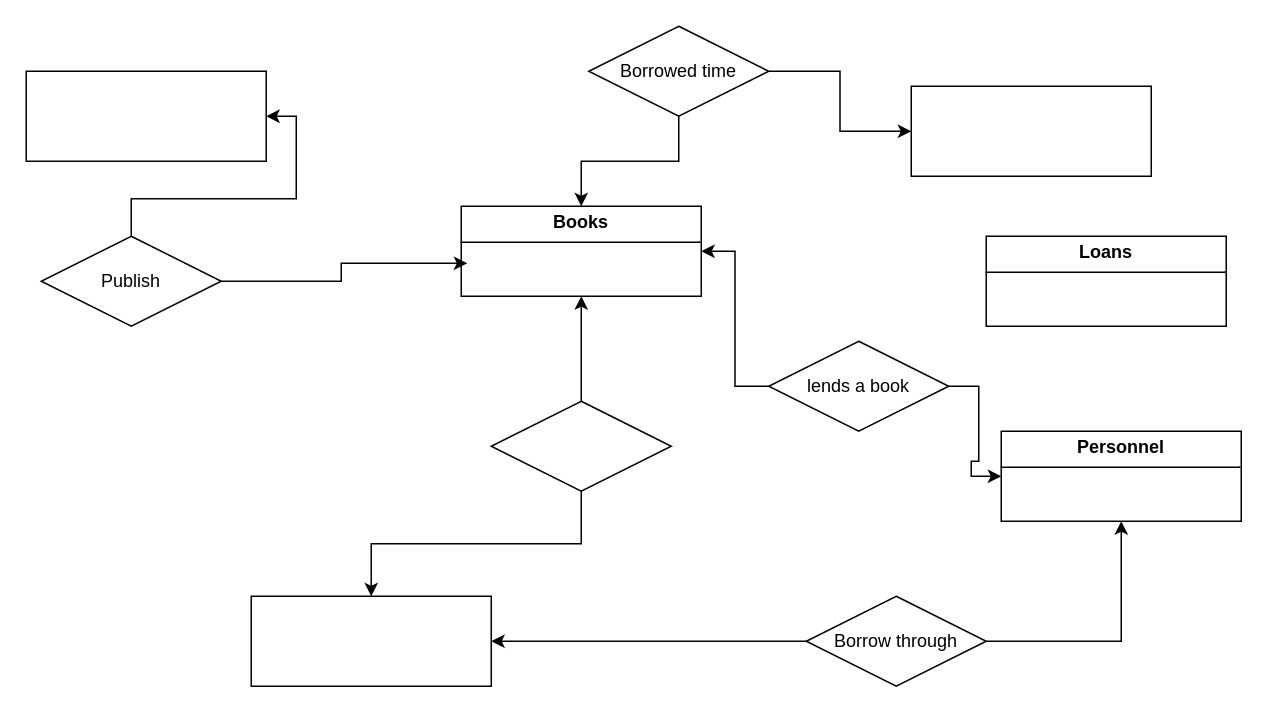
Image size: 1268x713. Some labels were removed from this diagram. Here are the shapes that lost their labels. From the top down, the centre of each, then its label:
the point at 145,115: Publisher
the point at 1030,130: Date/Time
the point at 580,445: borrows
the point at 370,640: Members
